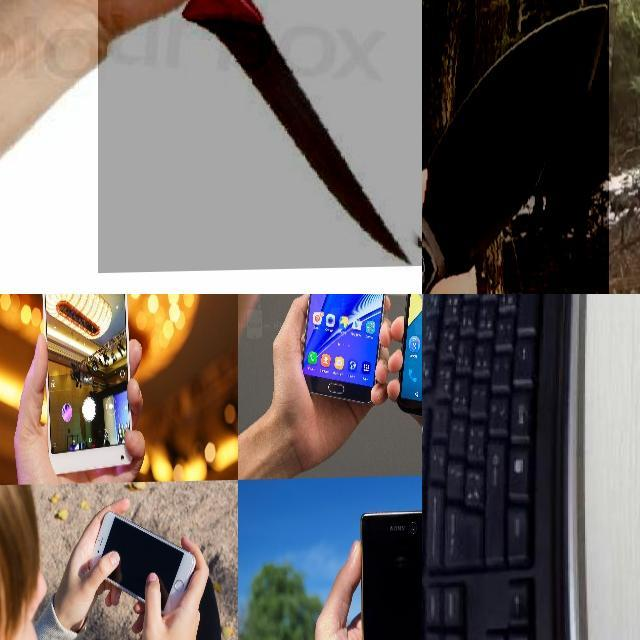-: (98, 0, 422, 274), (422, 0, 609, 294)
